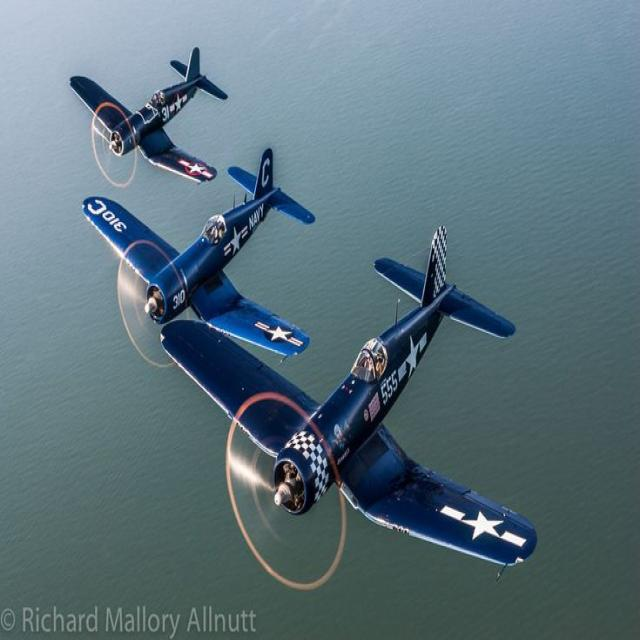iha: (162, 221, 540, 594), (75, 144, 313, 375), (66, 0, 229, 127)
